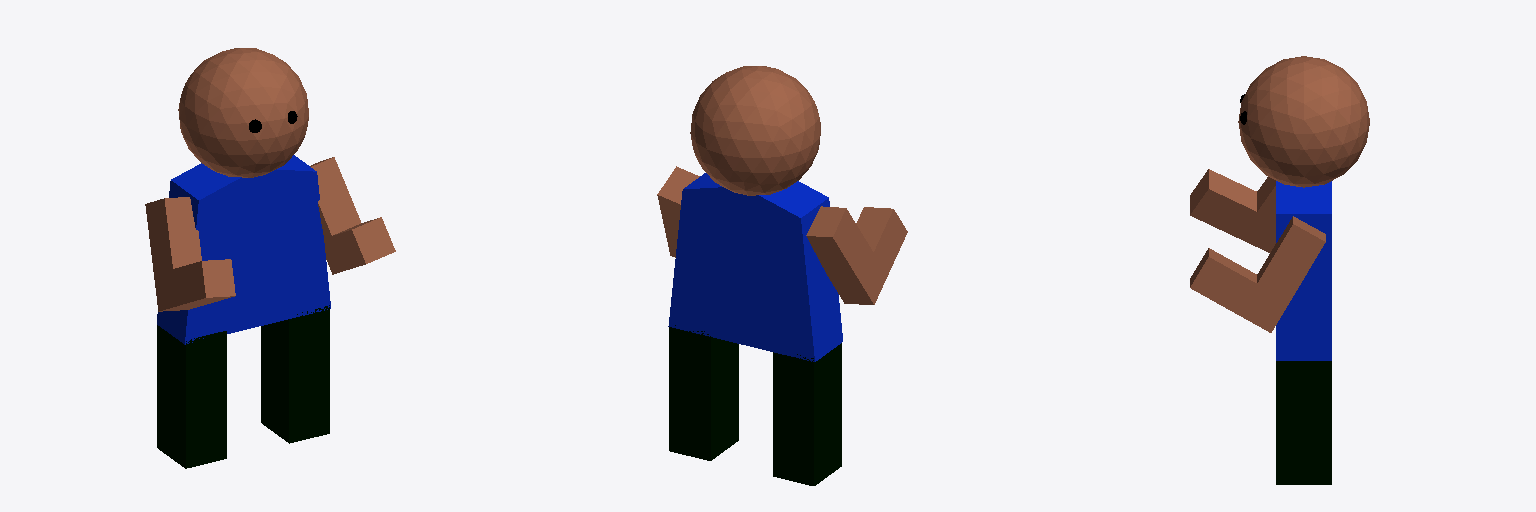
The model's file is NewPlayer.obj.
The picture shows the model from 3 angles: view 1: azimuth 30°, elevation 25°; view 2: azimuth 150°, elevation 25°; view 3: azimuth 270°, elevation 25°; orthographic projection.
Visible parts, largest first — view 1: Cube, Icosphere.001, Cube.001_Cube.003, Cube.002, Cube.003_Cube.004, Cube.004_Cube.005; view 2: Cube, Icosphere.001, Cube.001_Cube.003, Cube.002, Cube.003_Cube.004, Cube.004_Cube.005; view 3: Icosphere.001, Cube.004_Cube.005, Cube, Cube.002, Cube.003_Cube.004.
Part boxes in pixels (x1,y1,x2,y2): Cube: (157, 155, 330, 344); Icosphere.001: (178, 48, 308, 177); Cube.001_Cube.003: (157, 325, 226, 468); Cube.002: (261, 305, 329, 443); Cube.003_Cube.004: (145, 197, 235, 311); Cube.004_Cube.005: (310, 157, 395, 274); Cube: (668, 173, 842, 361); Icosphere.001: (690, 66, 820, 195); Cube.001_Cube.003: (773, 343, 841, 485); Cube.002: (669, 325, 738, 460); Cube.003_Cube.004: (806, 206, 907, 304); Cube.004_Cube.005: (657, 166, 699, 257); Icosphere.001: (1238, 56, 1369, 187); Cube.004_Cube.005: (1190, 216, 1325, 332); Cube: (1276, 181, 1331, 360); Cube.002: (1276, 361, 1331, 484); Cube.003_Cube.004: (1190, 169, 1275, 252).
Size of the model in its own units: 1.04 by 1.89 by 0.7982.